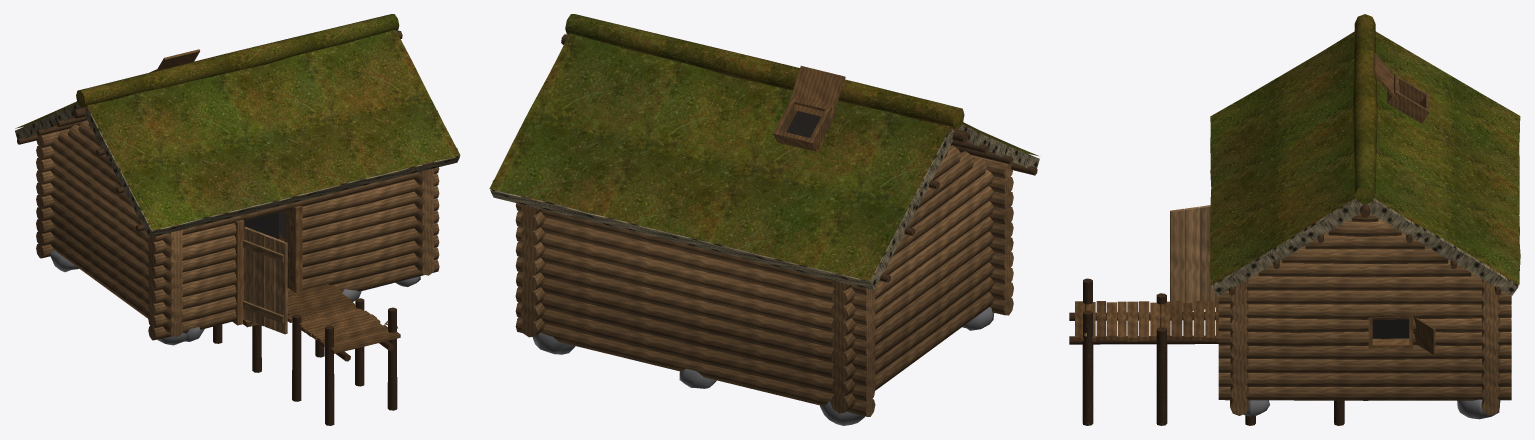
File: lakeside.glb
3 views of the same model, side by side, from view 1: azimuth 30°, elevation 25°; view 2: azimuth 150°, elevation 25°; view 3: azimuth 270°, elevation 25° (orthographic). The views are drawn at different scales.
Visible parts, largest first — view 1: mokki, laituri; view 2: mokki; view 3: mokki, laituri.
Boxes of the visible parts, <box> form: mokki: <box>15,14,460,345</box>; laituri: <box>213,238,400,425</box>; mokki: <box>489,14,1039,425</box>; mokki: <box>1170,14,1520,419</box>; laituri: <box>1069,278,1408,425</box>.
Bounding box in the file's own units: 5.7 × 4.71 × 6.1.
Materials: 7 (6 with a texture image).
